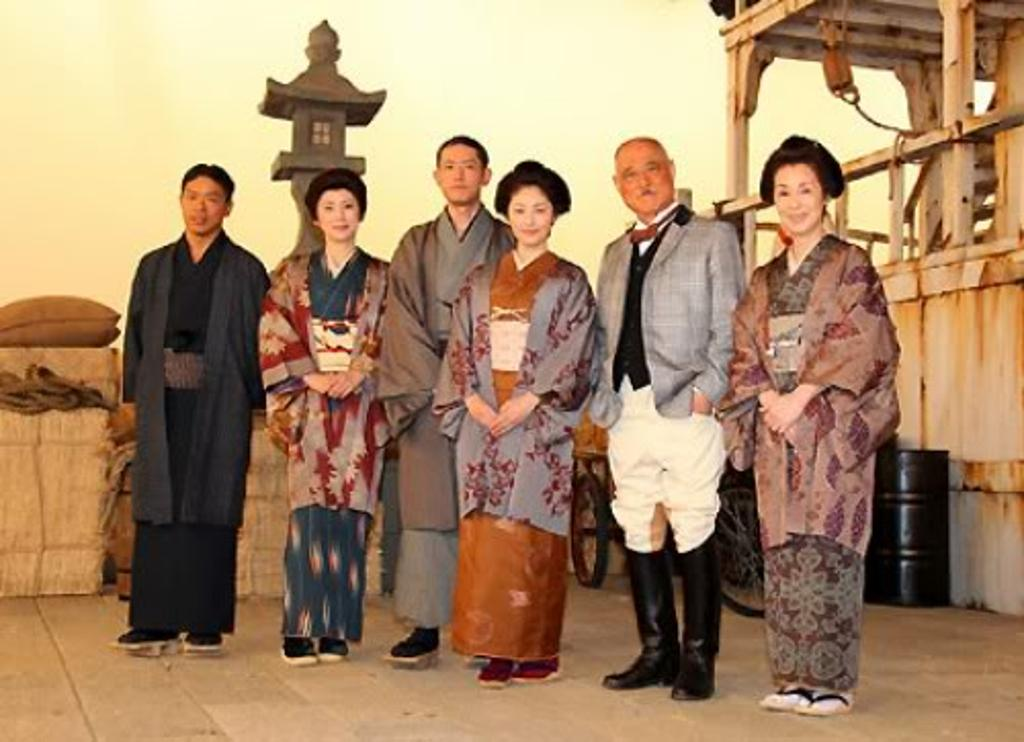face: (617, 140, 671, 214), (774, 164, 822, 233), (507, 186, 551, 245), (440, 148, 482, 202), (317, 188, 360, 240), (182, 180, 223, 233)
